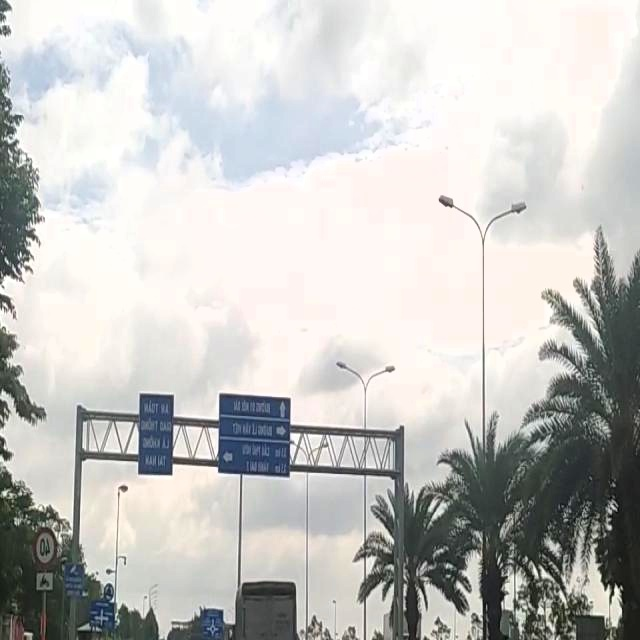P.127*40: (33, 525, 59, 571)
S.505a*Xe may: (33, 568, 55, 593)
